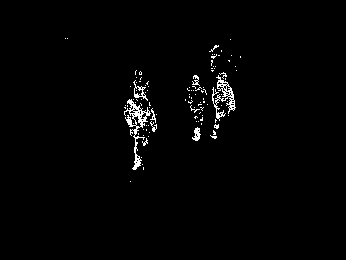person: (123, 85, 157, 171), (210, 70, 236, 141), (185, 73, 208, 143)
